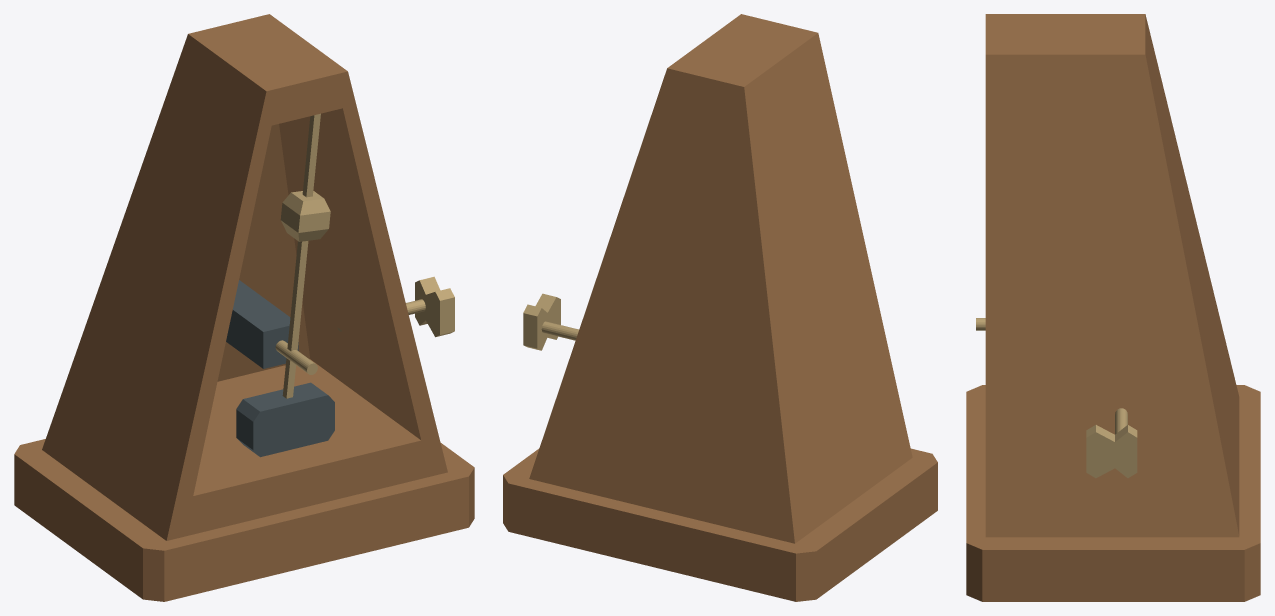
The picture shows the model from 3 angles, left to right: view 1: azimuth 30°, elevation 25°; view 2: azimuth 150°, elevation 25°; view 3: azimuth 270°, elevation 25°; orthographic projection. The views are drawn at different scales.
Visible parts, largest first — view 1: WholeThickPyramidCaseWithOpenFront, WholeGroundedChamferedPlinth, WholeBroadLowerCounterweight, WholeRearRootedPivotSupport, WholeContinuousUpperAndLowerPendulumRod, WholePiercedUpperSlidingWeightAppearance, WholeFlatButterflyKeyGrip; view 2: WholeThickPyramidCaseWithOpenFront, WholeGroundedChamferedPlinth, WholeFlatButterflyKeyGrip; view 3: WholeThickPyramidCaseWithOpenFront, WholeGroundedChamferedPlinth, WholeFlatButterflyKeyGrip.
Boxes of the visible parts, x1,y1,x2,y2 form: WholeThickPyramidCaseWithOpenFront: (42,14,447,540); WholeGroundedChamferedPlinth: (14,439,474,601); WholeBroadLowerCounterweight: (236,382,334,457); WholeRearRootedPivotSupport: (226,280,298,368); WholeContinuousUpperAndLowerPendulumRod: (282,113,320,398); WholePiercedUpperSlidingWeightAppearance: (280,191,330,241); WholeFlatButterflyKeyGrip: (415,276,454,337); WholeThickPyramidCaseWithOpenFront: (529,14,912,543); WholeGroundedChamferedPlinth: (503,448,937,601); WholeFlatButterflyKeyGrip: (523,293,560,350); WholeThickPyramidCaseWithOpenFront: (985,14,1239,537); WholeGroundedChamferedPlinth: (966,385,1260,601); WholeFlatButterflyKeyGrip: (1086,425,1137,478).
Bounding box in the file's own units: 0.267 × 0.335 × 0.184.
